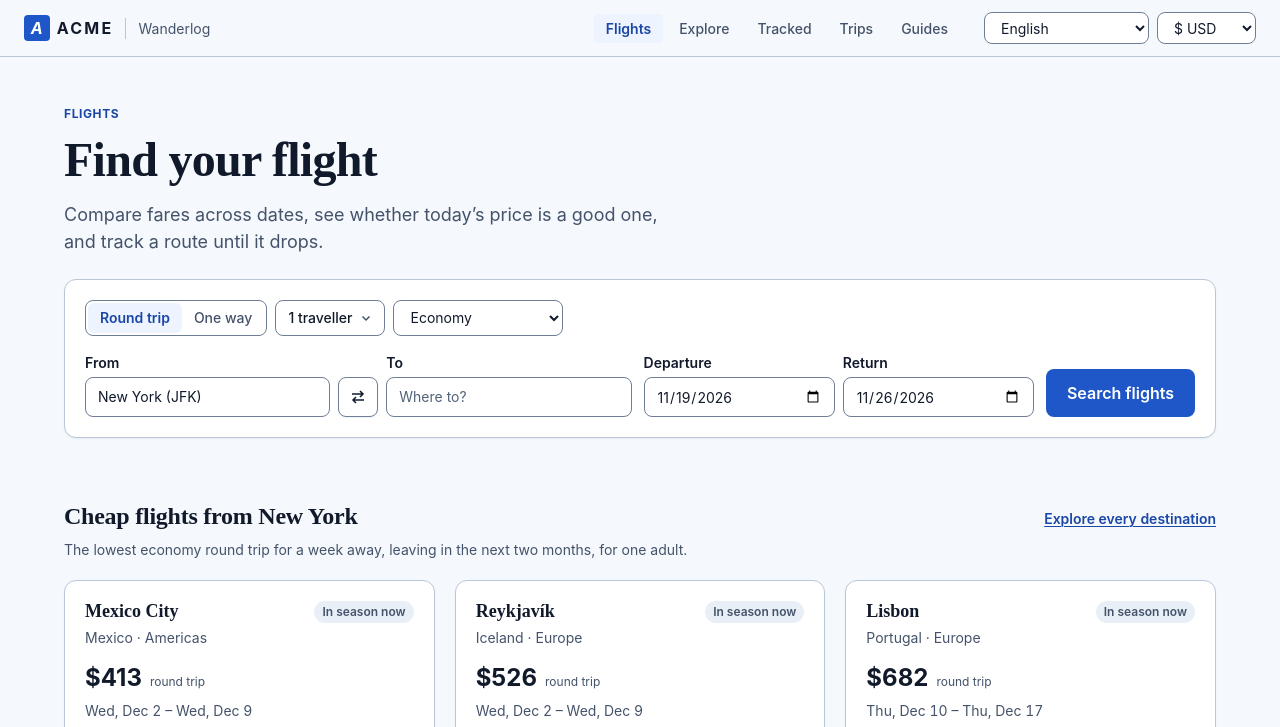
Test: Flights › tracks a search and follows it on the tracked page
Type "KEF" into the field named "to". click: (509, 397)
box: left=386, top=377, right=631, bottom=417
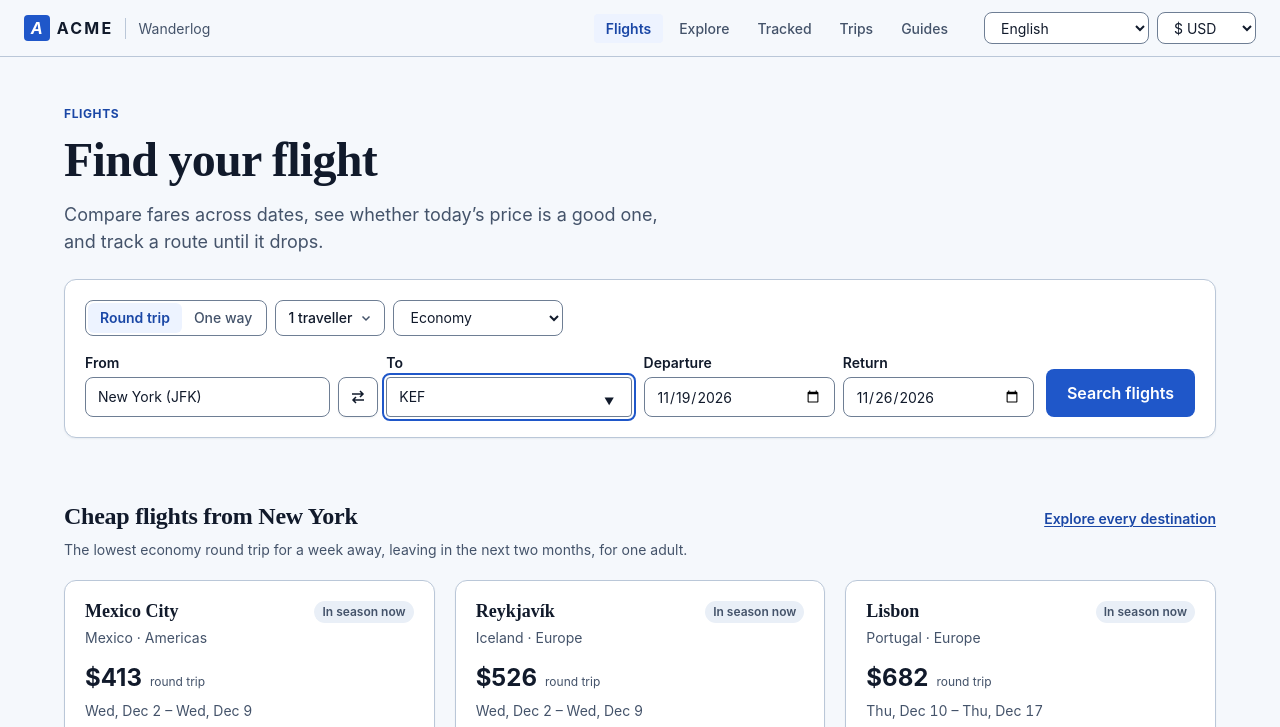
Click the button "Search flights". click: (1121, 393)
box: left=1046, top=369, right=1195, bottom=417
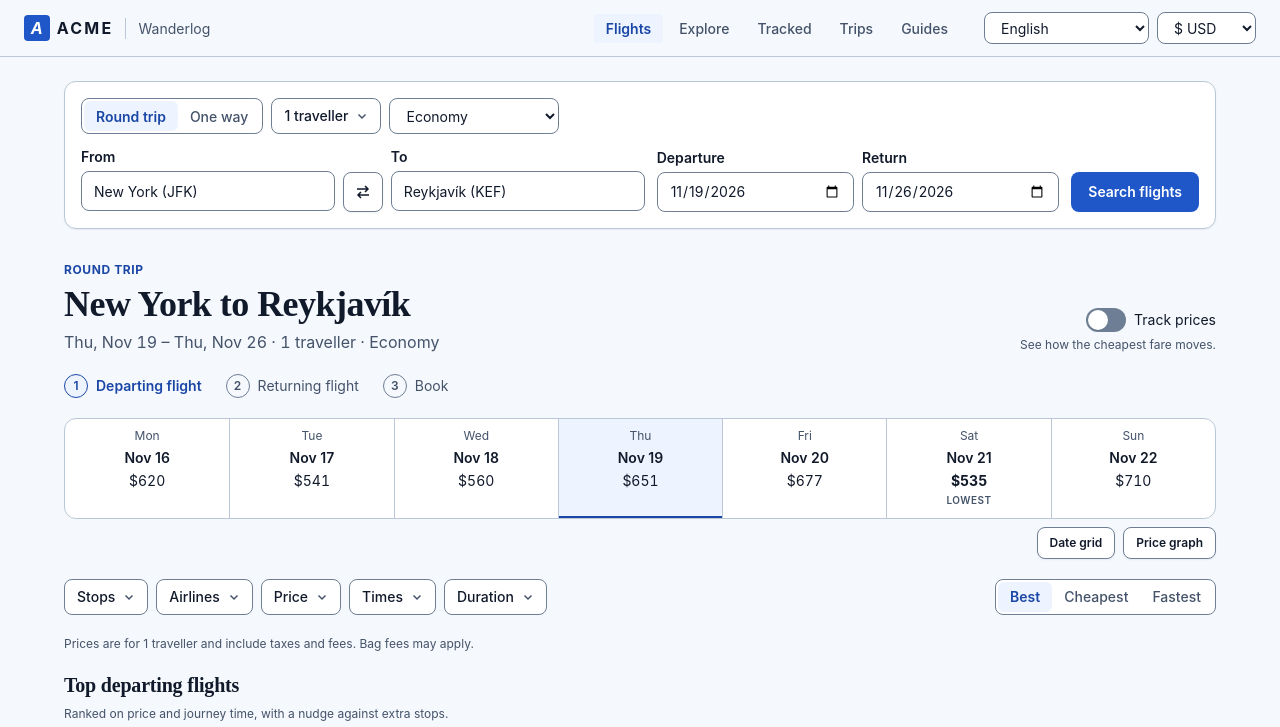
Check the checkbox labelled "Track prices". click: (1106, 320)
box: left=1086, top=308, right=1126, bottom=332
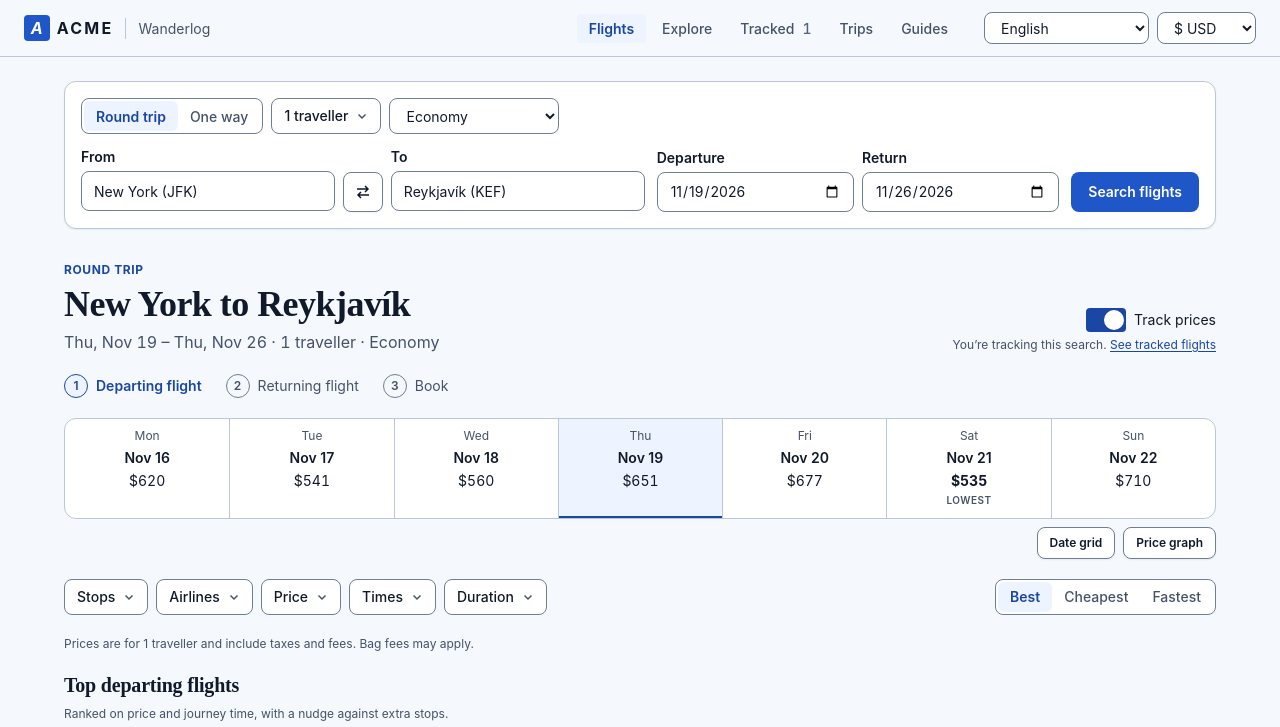
Expected: the text "You’re tracking this search." is shown, left=952, top=337, right=1110, bottom=352
Expected: the text "Tracked" in the row of "Guides" reads "1", left=802, top=20, right=811, bottom=37
Click the link "Tracked 1". click: (776, 29)
box: left=740, top=20, right=811, bottom=37
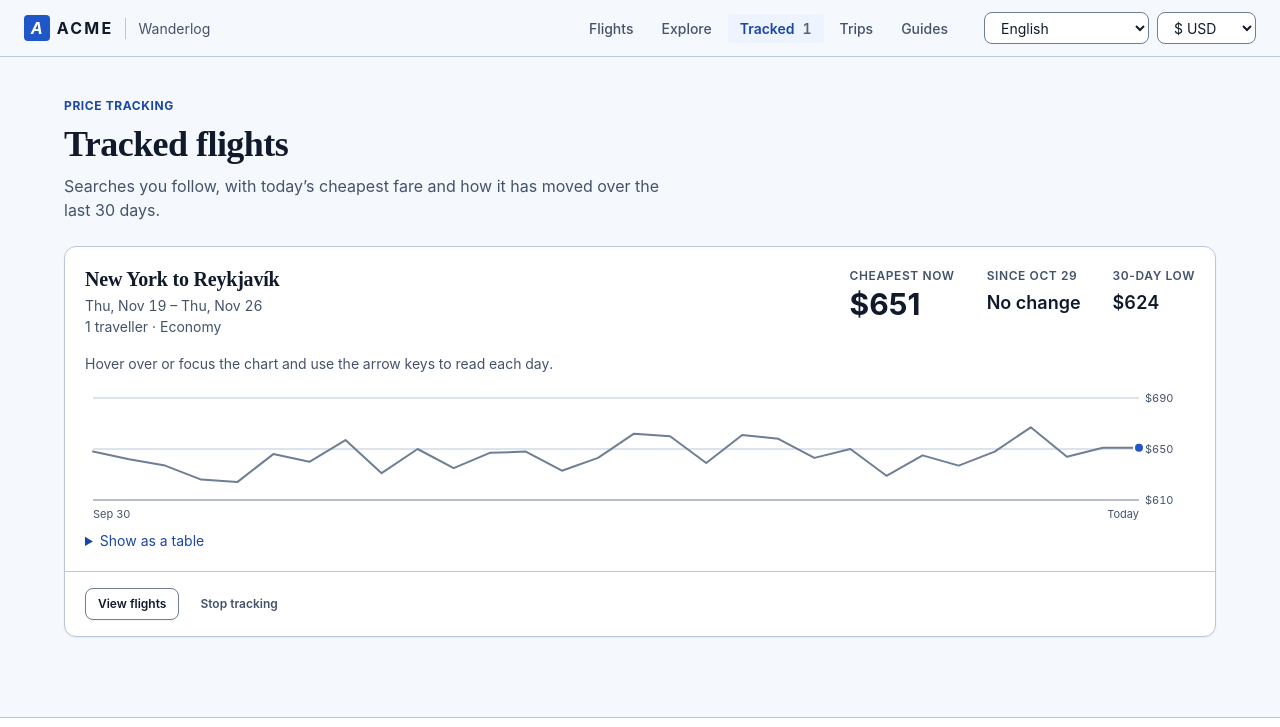
Expected: the heading "New York to Reykjavík" is shown, left=85, top=267, right=280, bottom=291
Expected: the text with class "hero" reads "$651", left=850, top=286, right=921, bottom=322
Expected: the picture "$690 $650 $610 Sep 30 Today" is shown, left=85, top=382, right=1195, bottom=522
Click the button "Stop tracking". click: (239, 604)
box: left=187, top=588, right=290, bottom=620
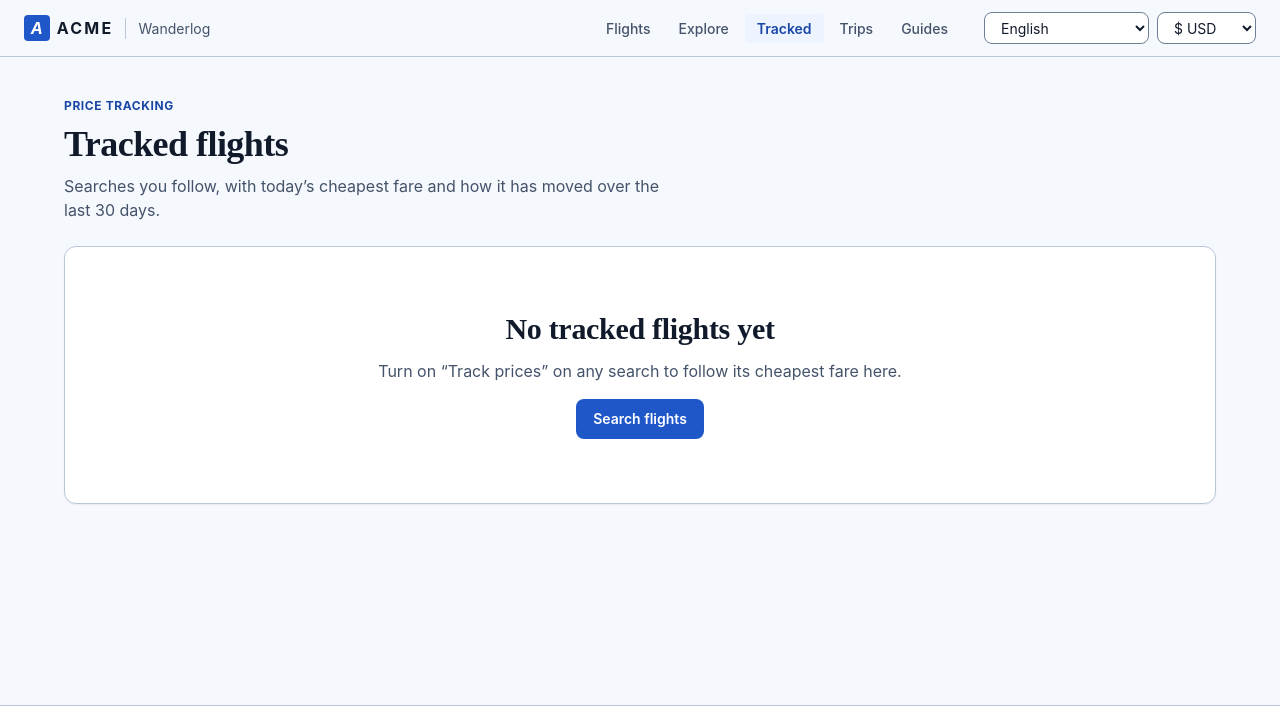
Expected: the heading "No tracked flights yet" is shown, left=505, top=311, right=775, bottom=347
